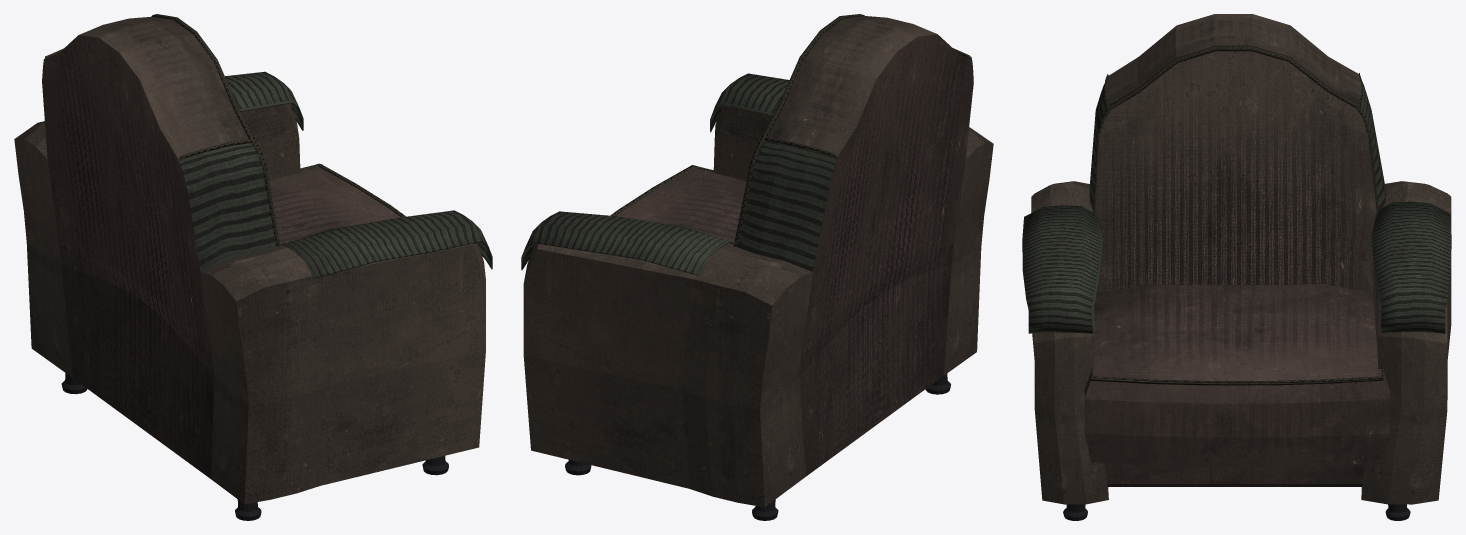
File: FPH_Armchair.fbx
The picture shows the model from 3 angles, left to right: view 1: azimuth 30°, elevation 25°; view 2: azimuth 150°, elevation 25°; view 3: azimuth 270°, elevation 25°; orthographic projection. The views are drawn at different scales.
Parts seen in each view (by area): view 1: FPH_ArmChair; view 2: FPH_ArmChair; view 3: FPH_ArmChair.
Part boxes in pixels (bbox=[...]): FPH_ArmChair: bbox=[14, 14, 492, 520]; FPH_ArmChair: bbox=[521, 14, 993, 520]; FPH_ArmChair: bbox=[1022, 14, 1451, 520].
Bounding box in the file's own units: 4.81 × 6.43 × 6.32.
